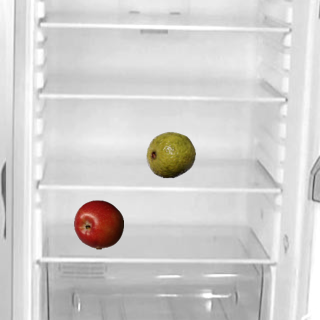Apple Braeburn: (73, 199, 123, 249)
Guava: (145, 129, 195, 179)
